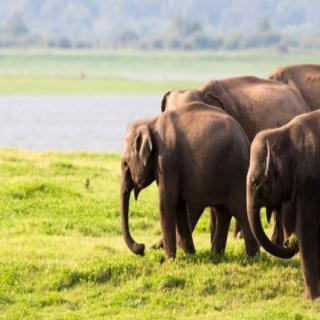Elephant: (113, 98, 260, 265), (243, 103, 320, 306)
